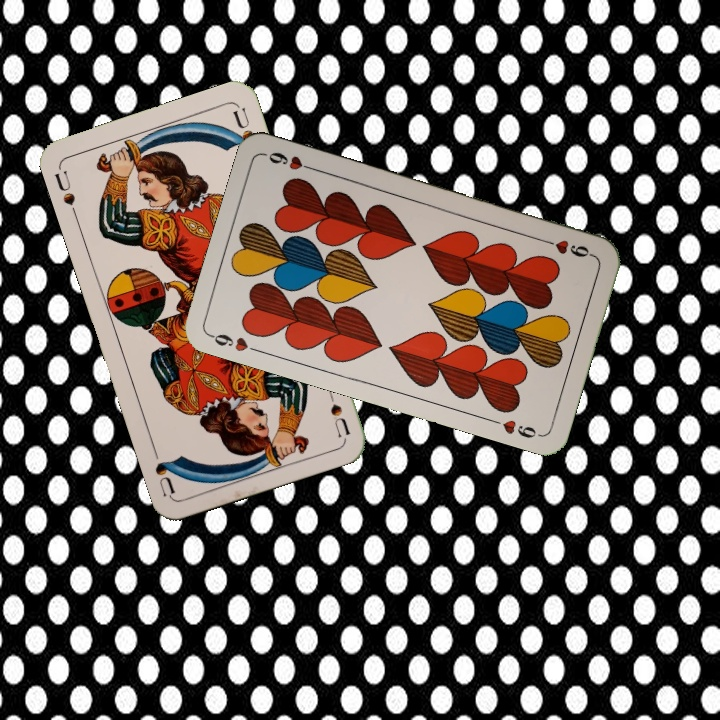H9: (207, 329, 264, 356), (538, 235, 596, 260)
SU: (321, 380, 353, 439), (50, 164, 81, 221)
